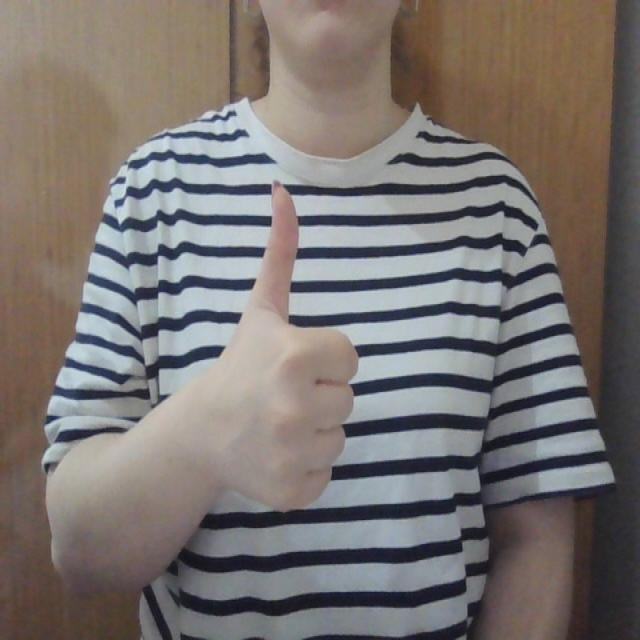Tamam: (207, 172, 372, 518)
